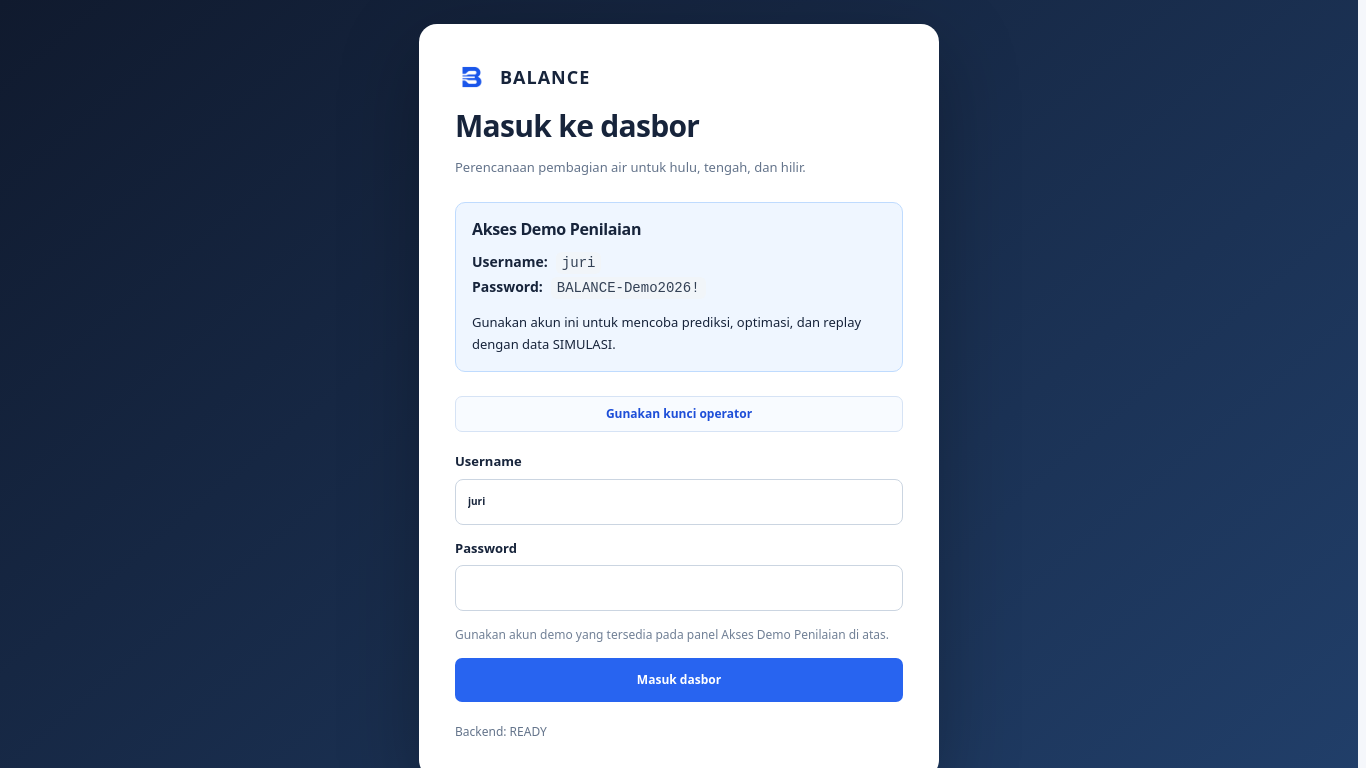
Test: public demo credentials remain visible with the existing judge and operator forms
The width and height of the screenshot is (1366, 768).
Check: the text "Backend: READY" is shown, box x1=455 y1=724 x2=547 y2=740
Check: the text "juri" is shown, box x1=556 y1=252 x2=601 y2=274
Step 1. Click the button "Gunakan kunci operator" → (679, 414), box x1=455 y1=396 x2=903 y2=432
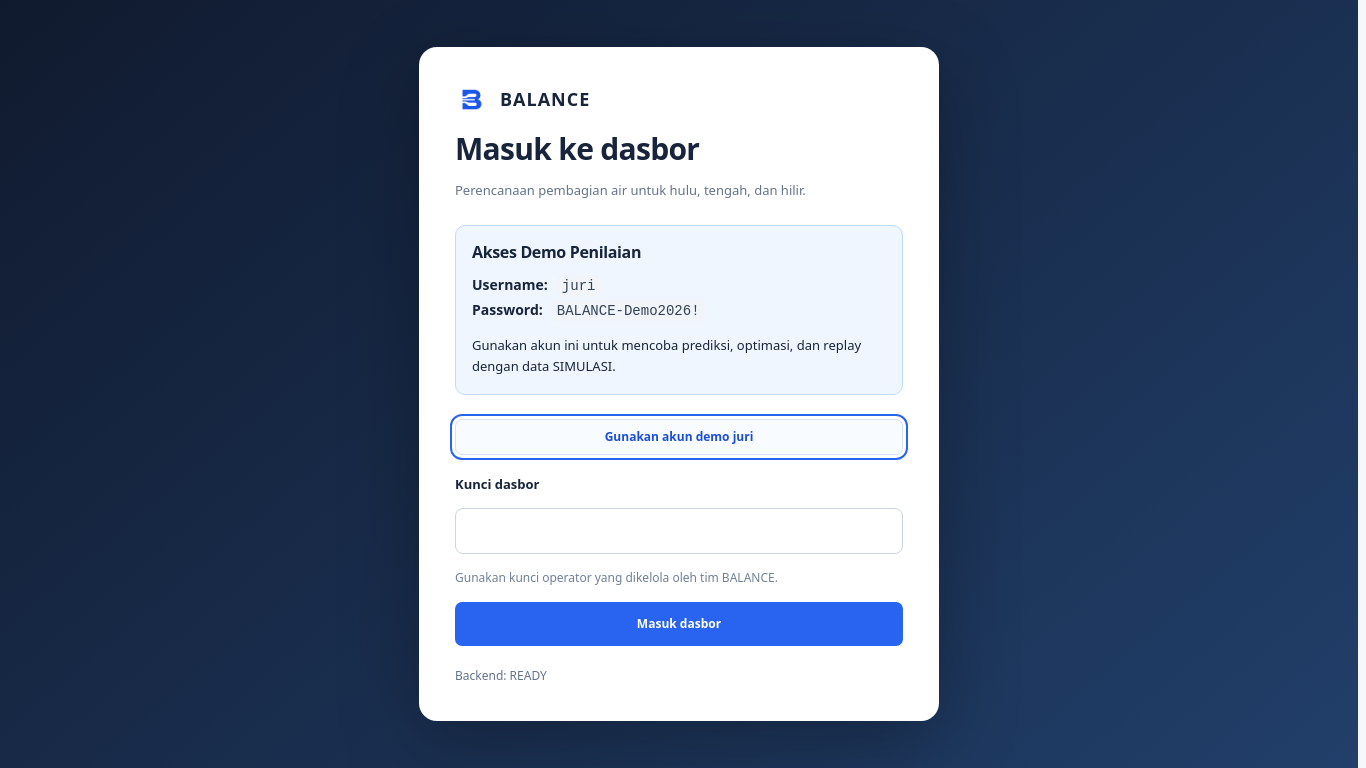
Check: the element "Akses Demo Penilaian" is shown, box x1=455 y1=225 x2=903 y2=395
Check: the password field labelled "Kunci dasbor" is empty, box x1=455 y1=508 x2=903 y2=554
Step 2. Click the button "Gunakan akun demo juri" → (679, 437), box x1=455 y1=419 x2=903 y2=455
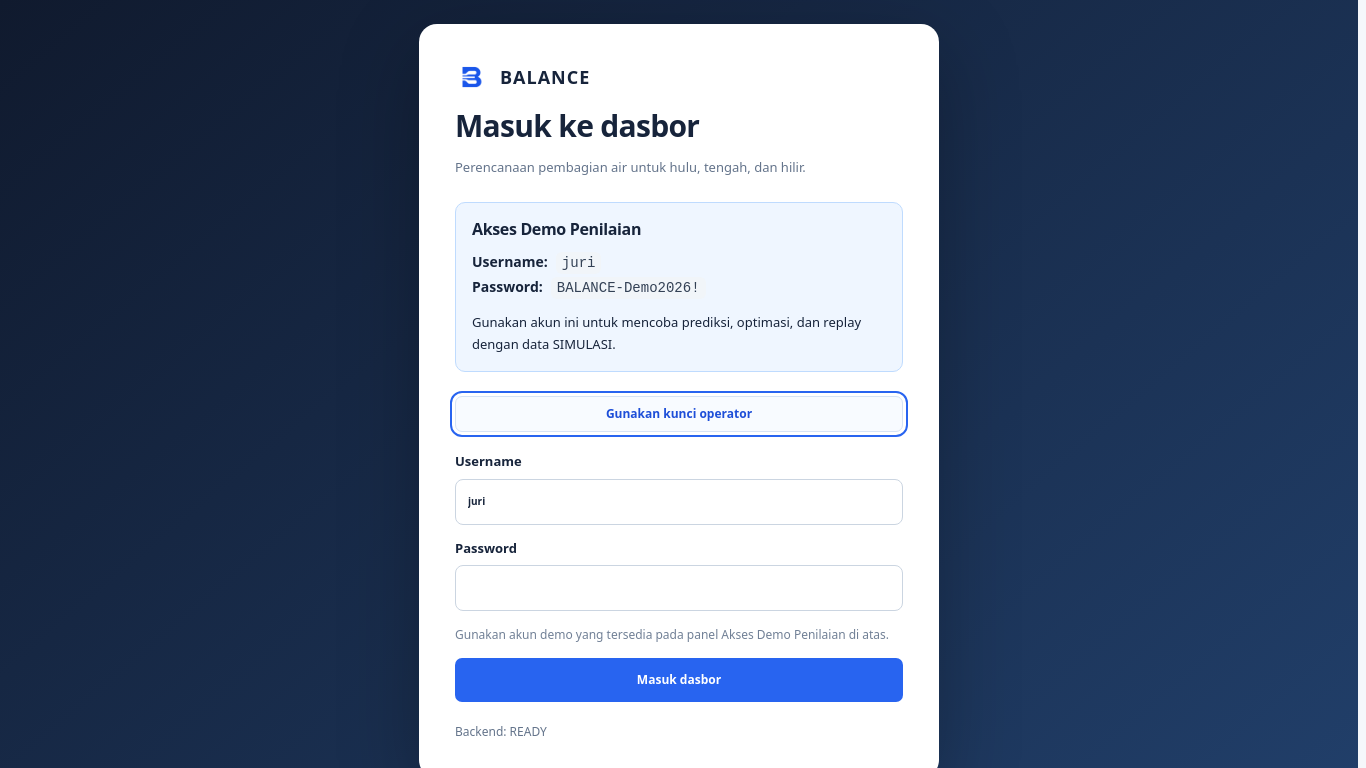
Check: the password field labelled "Password" is empty, box x1=455 y1=565 x2=903 y2=611
